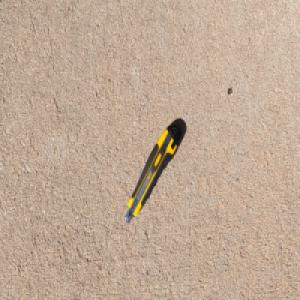Cutter: (124, 122, 183, 226)
